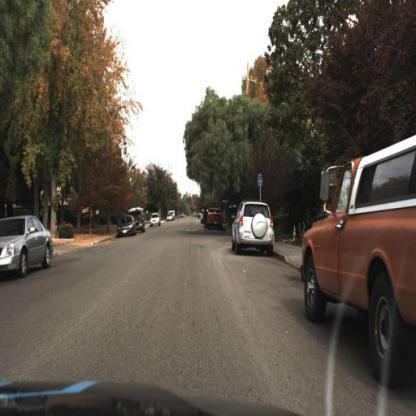car: (1, 208, 56, 282), (232, 199, 277, 256), (113, 214, 138, 240), (207, 205, 226, 234), (130, 204, 148, 234), (147, 212, 161, 230), (165, 216, 177, 229)
